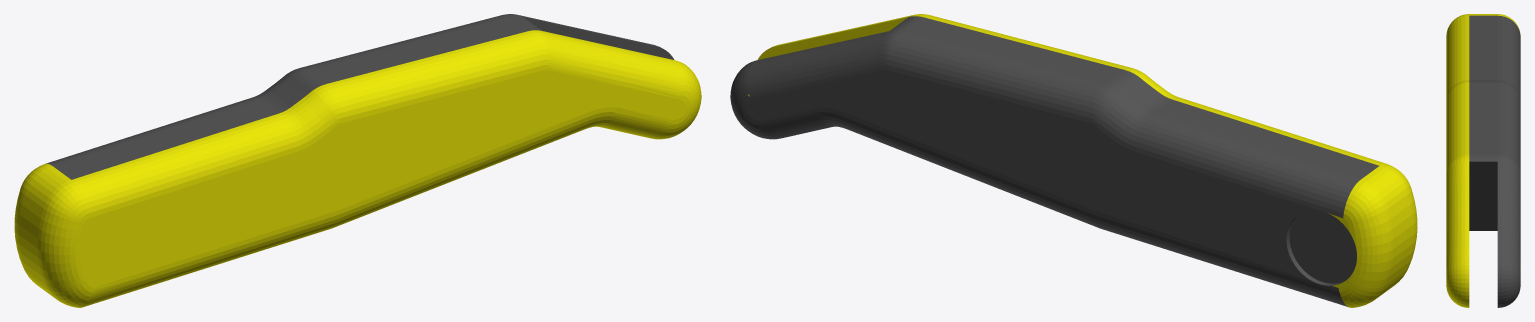
File: left_thigh.dae
The picture shows the model from 3 angles, left to right: view 1: azimuth 30°, elevation 25°; view 2: azimuth 150°, elevation 25°; view 3: azimuth 270°, elevation 25°; orthographic projection. The views are drawn at different scales.
Visible parts, largest first — view 1: Left Thigh; view 2: Left Thigh; view 3: Left Thigh.
Boxes of the visible parts, <box> form: Left Thigh: <box>14,14,701,307</box>; Left Thigh: <box>730,14,1417,307</box>; Left Thigh: <box>1446,14,1520,307</box>.
Bounding box in the file's own units: 0.4961 × 0.065 × 0.1178.
